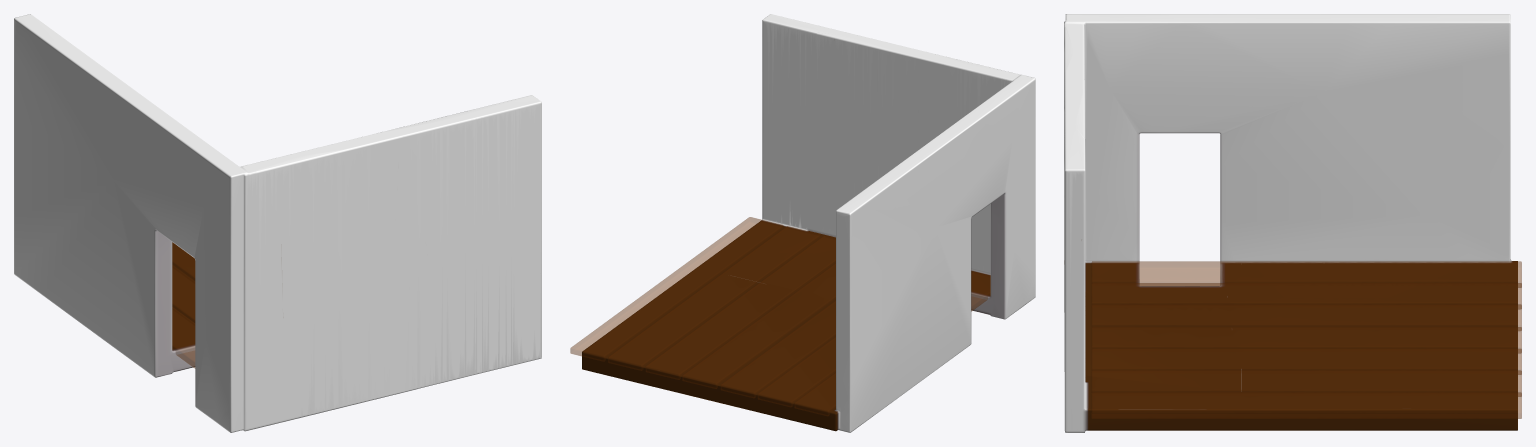
File: room.gltf
3 views of the same model, side by side, from view 1: azimuth 30°, elevation 25°; view 2: azimuth 150°, elevation 25°; view 3: azimuth 270°, elevation 25° (orthographic). The views are drawn at different scales.
Visible parts, largest first — view 1: Area (2), WOODEN FLOOR; view 2: Area (2), WOODEN FLOOR; view 3: Area (2), WOODEN FLOOR.
Part boxes in pixels (bbox=[...]): Area (2): bbox=[14, 14, 541, 432]; WOODEN FLOOR: bbox=[172, 243, 194, 367]; Area (2): bbox=[582, 14, 1035, 432]; WOODEN FLOOR: bbox=[570, 217, 990, 415]; Area (2): bbox=[1064, 14, 1517, 432]; WOODEN FLOOR: bbox=[1091, 261, 1521, 418].
Bounding box in the file's own units: 1950 × 1488 × 2340.
Materials: 2 (2 with a texture image).
